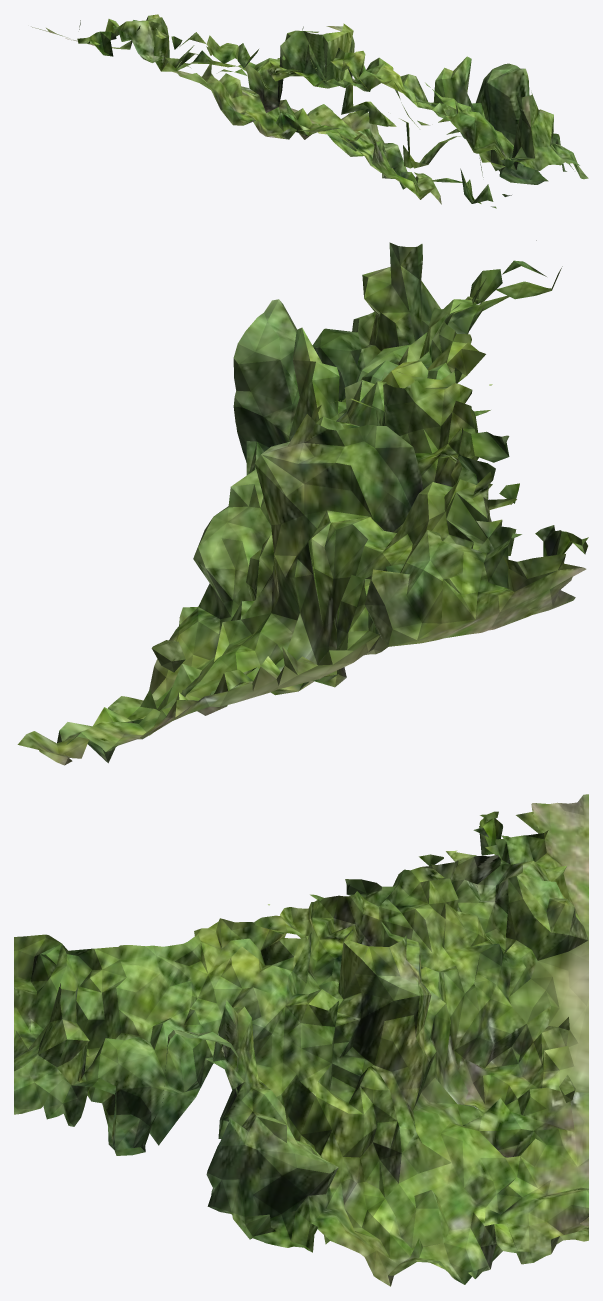
The picture shows the model from 3 angles, top to bottom: view 1: azimuth 30°, elevation 25°; view 2: azimuth 150°, elevation 25°; view 3: azimuth 270°, elevation 25°; orthographic projection. The views are drawn at different scales.
Size of the model in its own units: 23.5 by 13.95 by 26.11.
3 materials, 3 textured.
